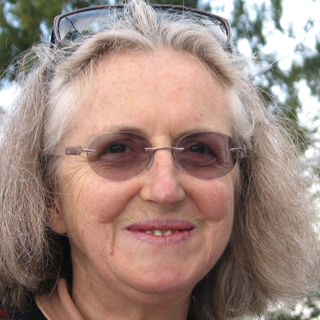eye: (93, 139, 136, 161), (180, 138, 215, 160)
